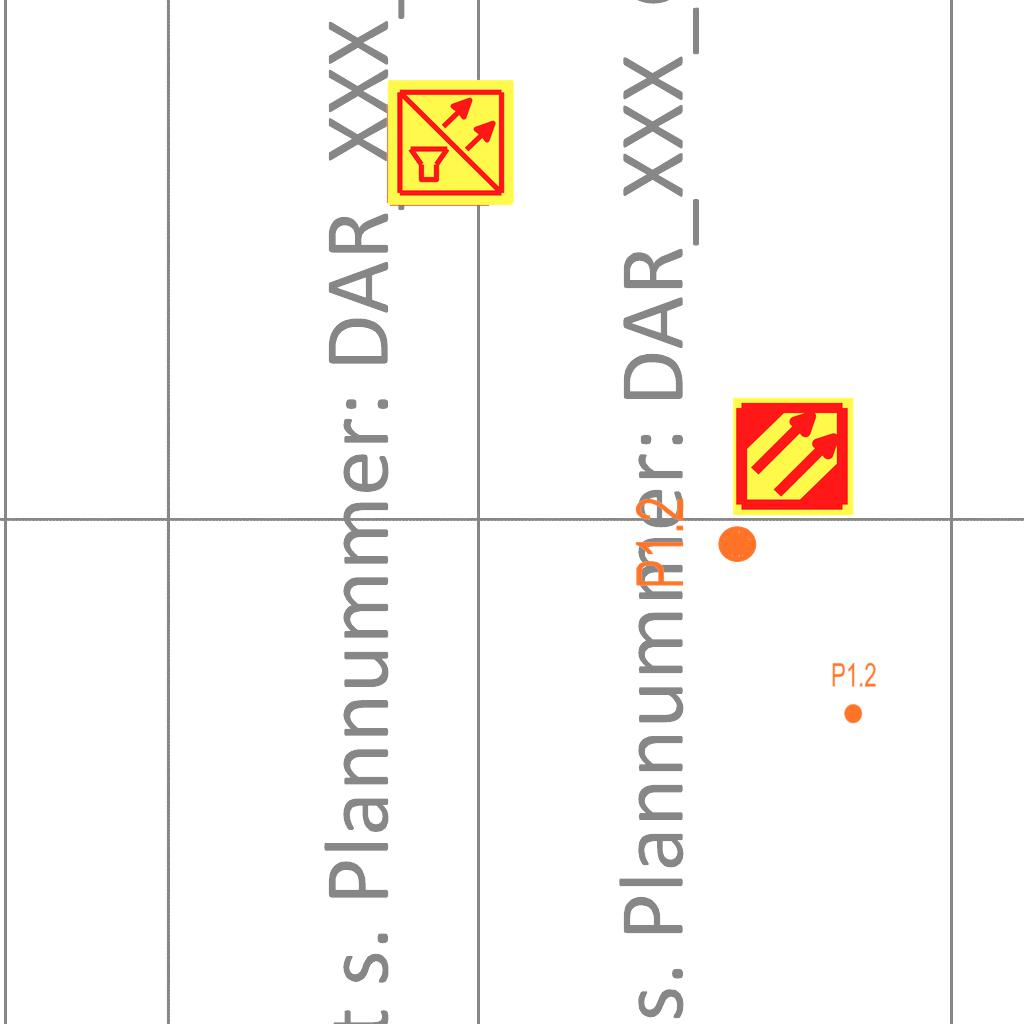ASR_Ansaugrauchmelder: (731, 394, 856, 519)
Downlight_LED_Einbauleuchten_Flur: (632, 496, 760, 589), (831, 661, 877, 725)
OKW_Multisensormelder_(Kombination_optischer_Rauch-Kahlenmonoxid_Waerme-Melder): (385, 77, 517, 209)
